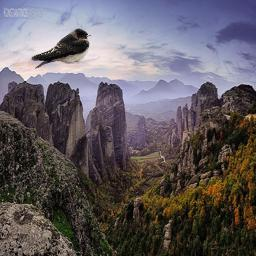Swallow: (31, 28, 91, 69)
